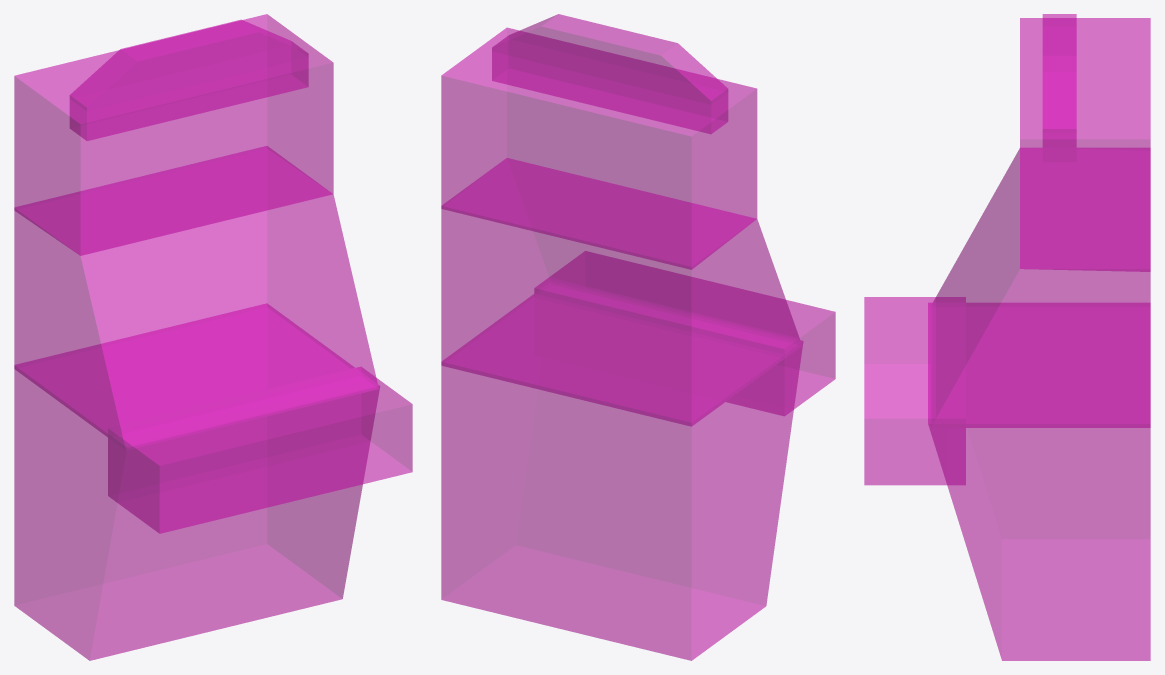
The model's file is SM_Prop_Video_Poker_01_Collision.fbx.
The picture shows the model from 3 angles, left to right: view 1: azimuth 30°, elevation 25°; view 2: azimuth 150°, elevation 25°; view 3: azimuth 270°, elevation 25°; orthographic projection.
Visible parts, largest first — view 1: SM_Prop_Video_Poker_01_Collision; view 2: SM_Prop_Video_Poker_01_Collision; view 3: SM_Prop_Video_Poker_01_Collision.
Boxes of the visible parts, <box> form: SM_Prop_Video_Poker_01_Collision: <box>14,14,412,660</box>; SM_Prop_Video_Poker_01_Collision: <box>441,14,835,660</box>; SM_Prop_Video_Poker_01_Collision: <box>864,14,1150,660</box>.
Bounding box in the file's own units: 109 × 233 × 108.
